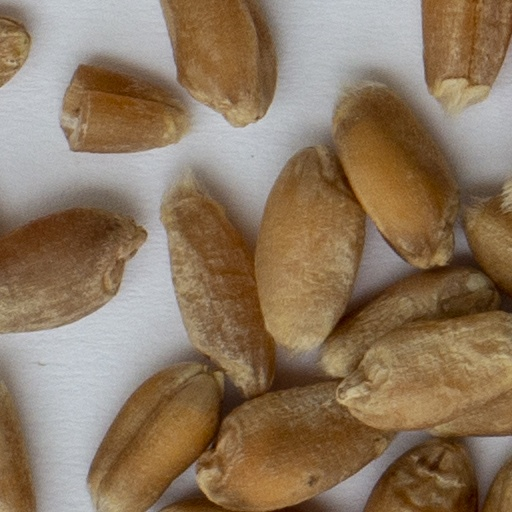Wheat-grain-damaged-poly: (58, 62, 187, 155)
